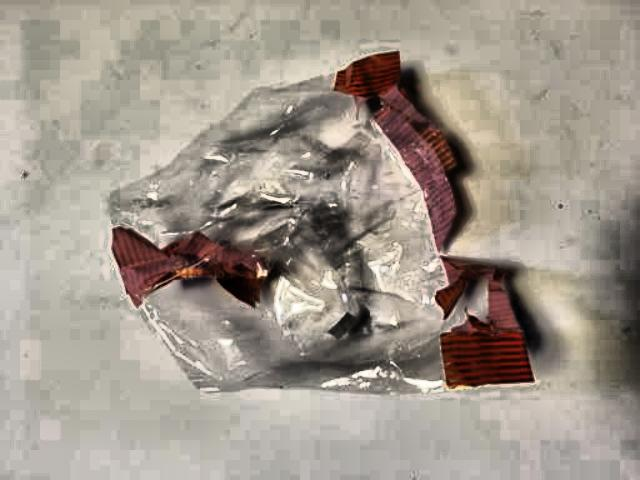Plastic: (92, 44, 562, 429)
